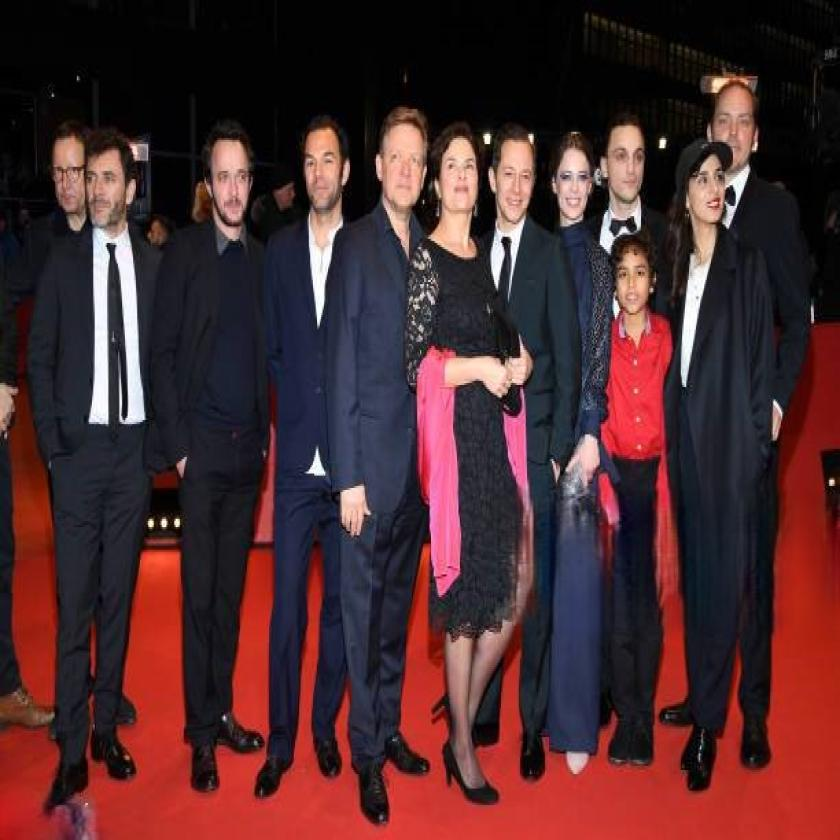Sin_casco: (373, 101, 437, 240), (77, 120, 140, 247), (430, 113, 488, 244), (196, 118, 254, 240), (295, 114, 351, 234), (703, 77, 763, 182), (486, 120, 543, 225), (41, 112, 92, 228), (610, 227, 658, 340), (548, 135, 600, 238), (598, 112, 652, 211)
